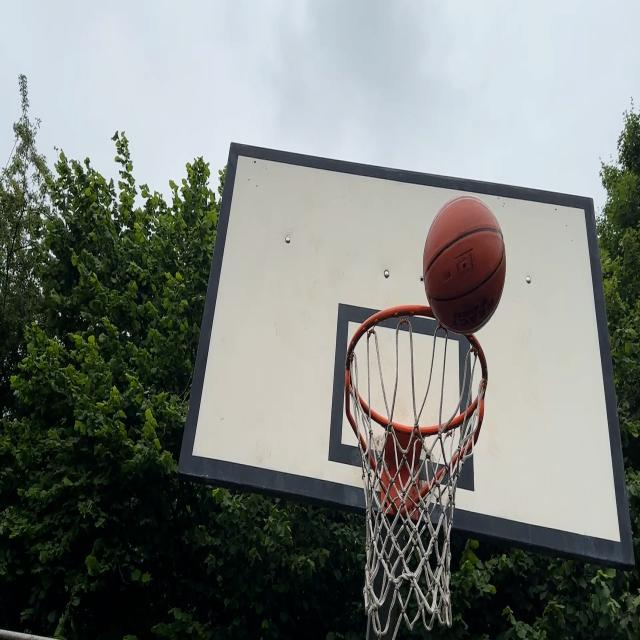rebound_hit: (426, 195, 508, 336)
